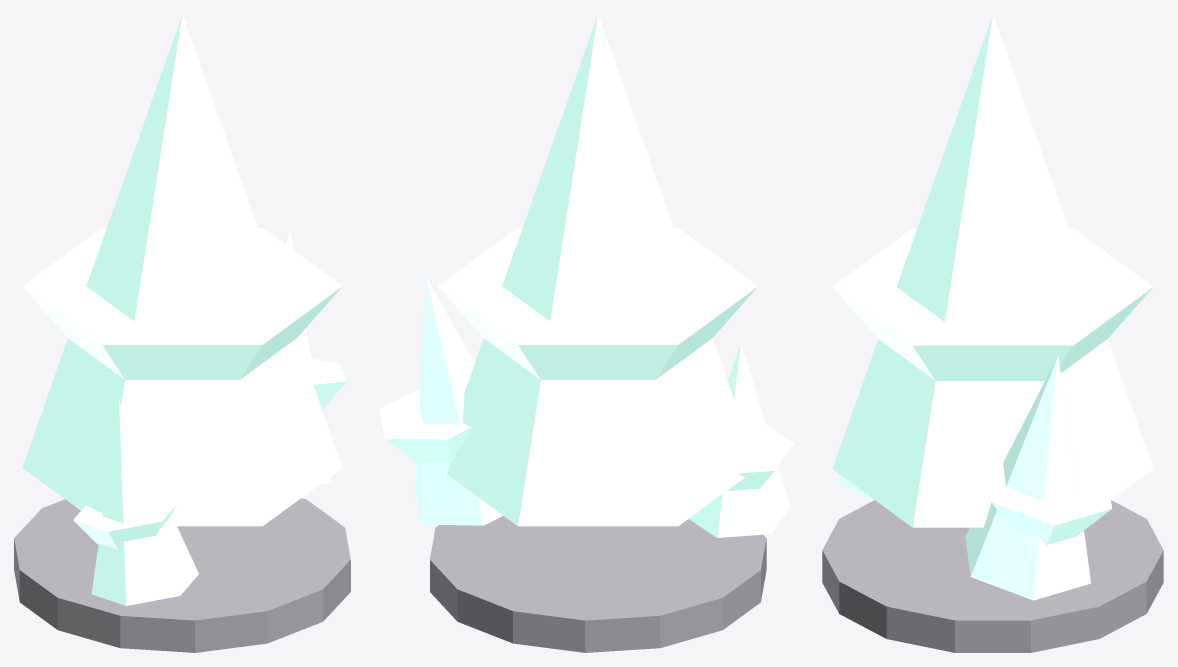
File: crystal3.glb
The picture shows the model from 3 angles, left to right: view 1: azimuth 30°, elevation 25°; view 2: azimuth 150°, elevation 25°; view 3: azimuth 270°, elevation 25°; orthographic projection.
Visible parts, largest first — view 1: crystal3.001; view 2: crystal3.001; view 3: crystal3.001.
Part boxes in pixels (x1,y1,x2,y2): crystal3.001: (14,14,350,652); crystal3.001: (379,14,793,652); crystal3.001: (822,14,1163,652).
Bounding box in the file's own units: 1.07 × 1.75 × 0.952.
